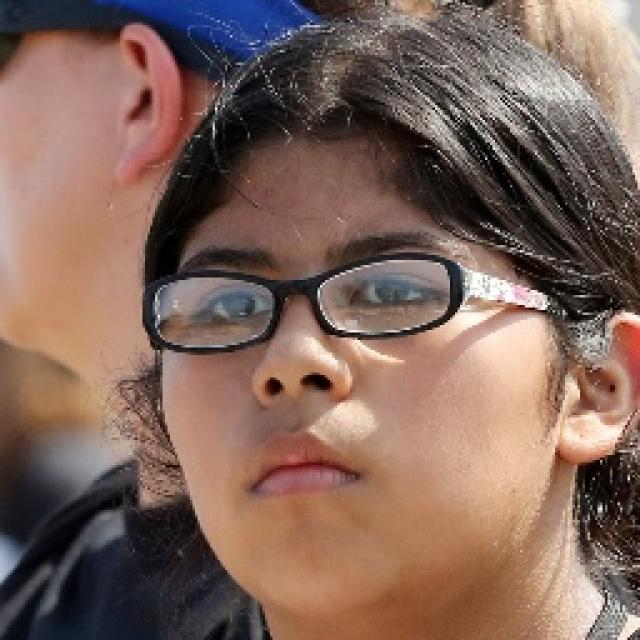earlobe: (559, 415, 602, 466), (113, 145, 151, 185)
eye: (197, 289, 280, 324), (351, 279, 438, 307)
nose: (257, 386, 337, 425)
wholeear: (559, 310, 640, 467), (113, 24, 181, 187)
